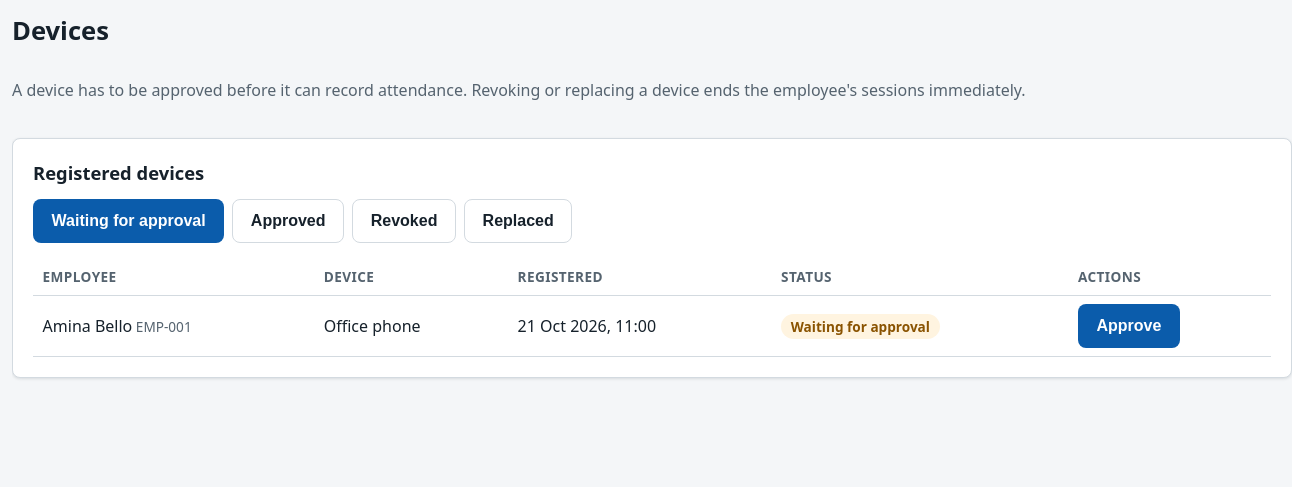
device administration › approves a pending device
Expected: the heading "Devices" is shown, [12,13,109,48]
Click the button "Approve".
click(1129, 326)  # box [1078,304,1180,348]
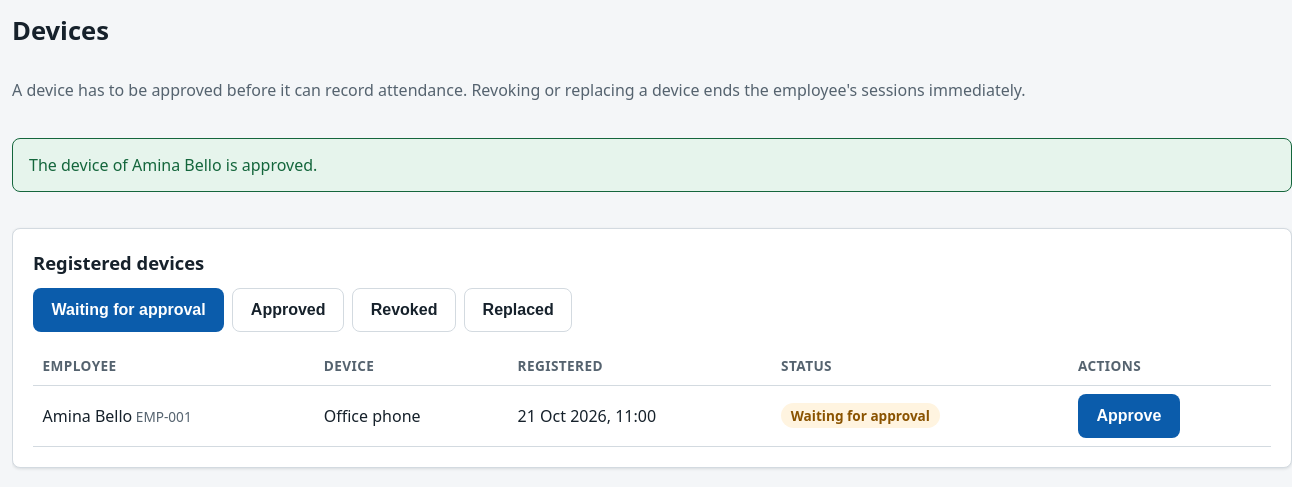
Expected: the text "The device of Amina Bello is approved." is shown, [29,154,317,176]
